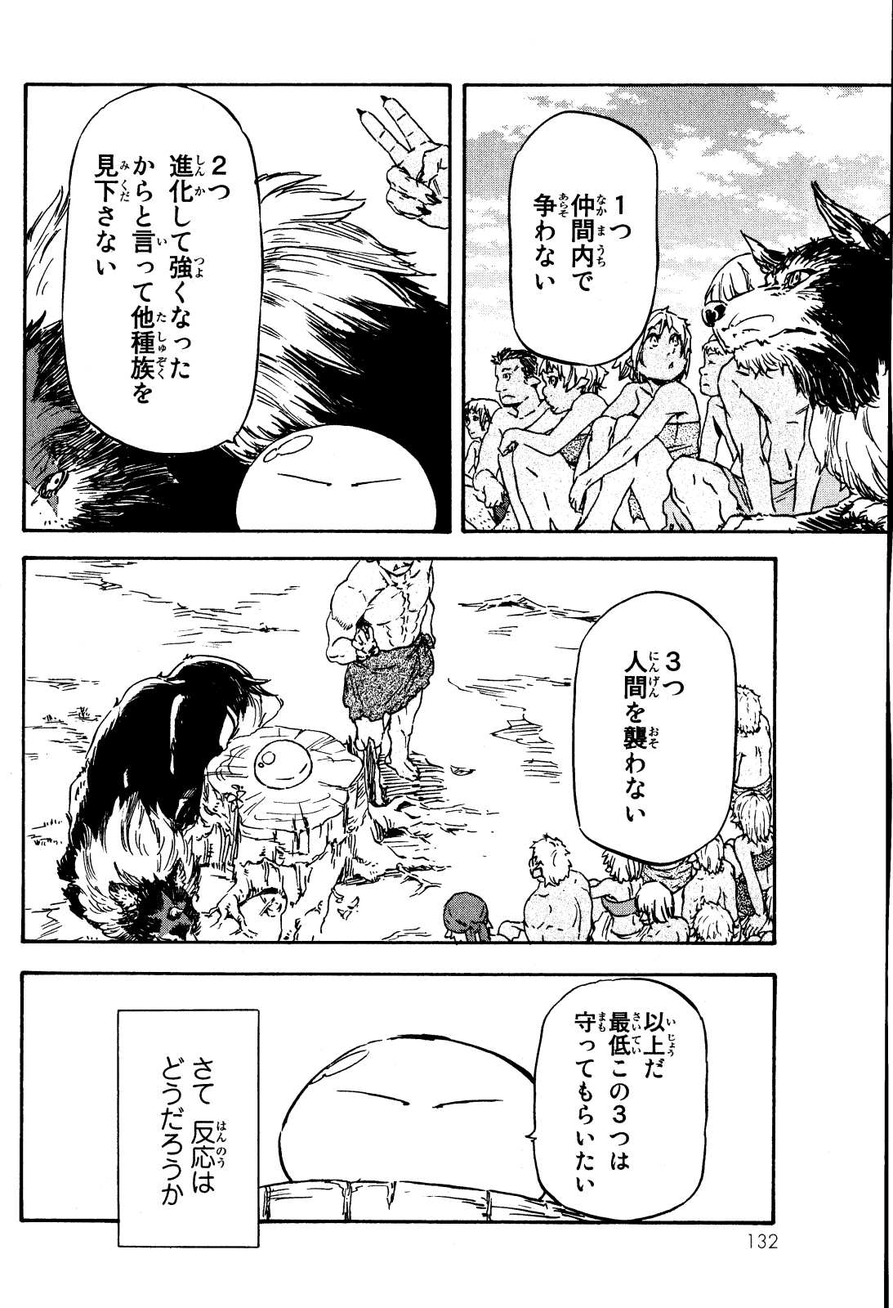bubbles: (59, 84, 268, 459), (569, 588, 741, 869), (523, 974, 712, 1222), (504, 108, 664, 369), (112, 1005, 264, 1255)
